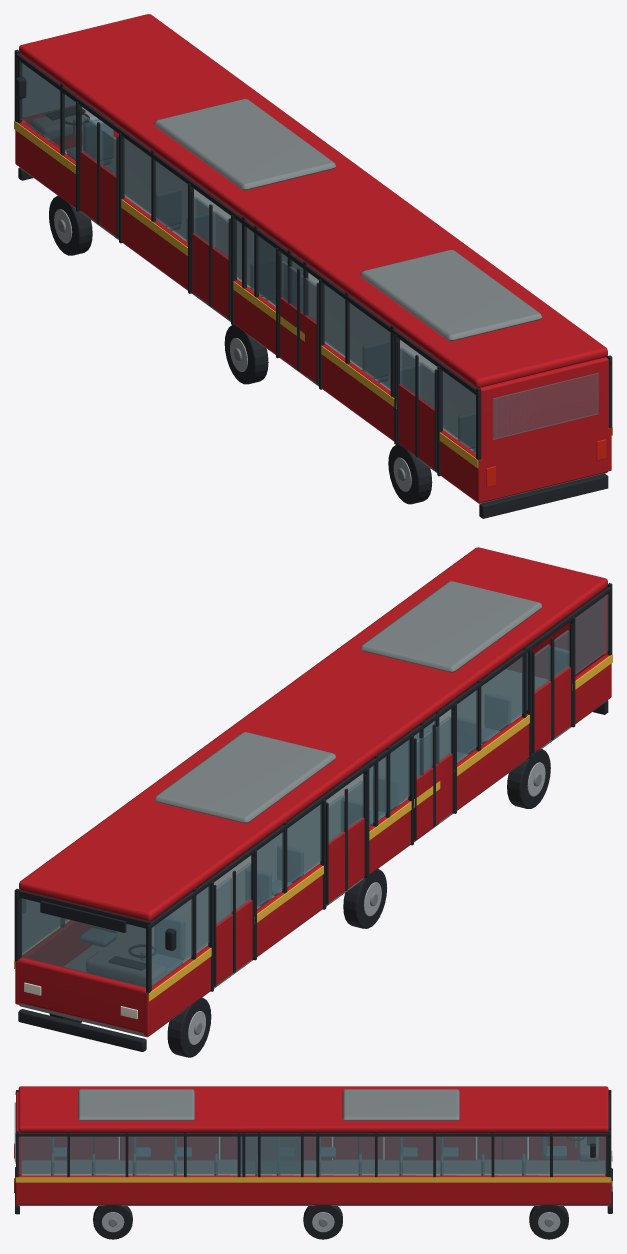
The model's file is articulado_prototipo.glb.
3 views of the same model, one above another, from view 1: azimuth 30°, elevation 25°; view 2: azimuth 150°, elevation 25°; view 3: azimuth 270°, elevation 25° (orthographic). The views are drawn at different scales.
Parts seen in each view (by area): view 1: Techo, Techo.001, Panel_trasero, Equipo_techo, Equipo_techo.001, Suelo, Ventana_trasera, Ventana.005, Ventana.001, Ventana, Suelo.001, Panel.005 (+28 smaller); view 2: Techo, Techo.001, Equipo_techo.001, Equipo_techo, Suelo, Parabrisas, Morro, Ventana.005, Ventana.001, Suelo.001, Ventana, Panel_trasero (+32 smaller); view 3: Techo, Ventana.003, Ventana.007, Panel.003, Techo.001, Panel.007, Suelo, Equipo_techo, Equipo_techo.001, Suelo.001, Franja.003, Marco_superior.001 (+23 smaller).
Boxes of the visible parts, <box> form: Techo: <box>19,14,433,259</box>; Techo.001: <box>259,214,607,387</box>; Panel_trasero: <box>480,357,608,502</box>; Equipo_techo: <box>154,99,335,190</box>; Equipo_techo.001: <box>360,250,542,340</box>; Suelo: <box>20,137,404,376</box>; Ventana_trasera: <box>492,372,598,439</box>; Ventana.005: <box>323,284,394,391</box>; Ventana.001: <box>123,137,187,241</box>; Ventana: <box>20,62,75,159</box>; Suelo.001: <box>259,343,607,503</box>; Panel.005: <box>322,343,394,440</box>; Techo: <box>19,674,433,921</box>; Techo.001: <box>260,547,607,745</box>; Equipo_techo.001: <box>360,581,542,672</box>; Equipo_techo: <box>154,732,335,823</box>; Suelo: <box>19,793,432,1037</box>; Parabrisas: <box>21,898,145,987</box>; Morro: <box>18,957,145,1033</box>; Ventana.005: <box>457,653,527,761</box>; Ventana.001: <box>257,804,321,907</box>; Suelo.001: <box>335,669,606,860</box>; Ventana: <box>151,886,209,984</box>; Panel_trasero: <box>506,587,607,678</box>; Techo: <box>243,1086,608,1132</box>; Ventana.003: <box>240,1136,606,1173</box>; Ventana.007: <box>18,1136,300,1173</box>; Panel.003: <box>238,1175,611,1204</box>; Techo.001: <box>18,1086,298,1132</box>; Panel.007: <box>15,1175,302,1204</box>; Suelo: <box>240,1160,608,1205</box>; Equipo_techo: <box>342,1089,459,1120</box>; Equipo_techo.001: <box>78,1089,194,1120</box>; Suelo.001: <box>18,1160,300,1205</box>; Franja.003: <box>237,1177,611,1182</box>; Marco_superior.001: <box>238,1132,611,1136</box>.
Size of the model in its own units: 3.02 by 3.3 by 15.38.
